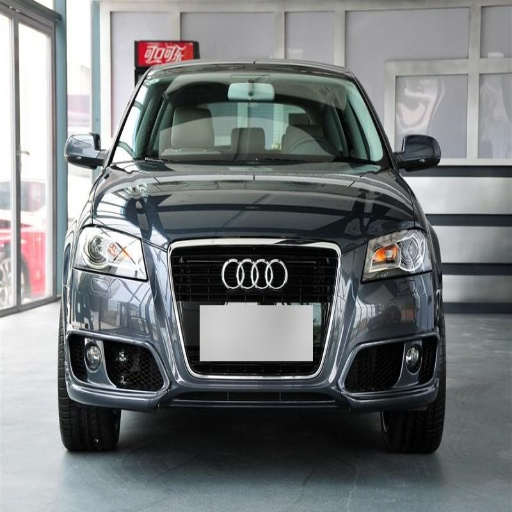_background_: (291, 341, 440, 408)
back_right_light: (70, 237, 435, 404)
front_bumper: (110, 71, 388, 168)
front_left_door: (361, 218, 433, 283)
front_right_door: (75, 201, 145, 280)
front_right_light: (98, 159, 414, 243)
hood: (397, 135, 440, 171)
left_mirror: (65, 133, 103, 169)
trunk: (59, 384, 120, 450), (381, 401, 443, 451)
